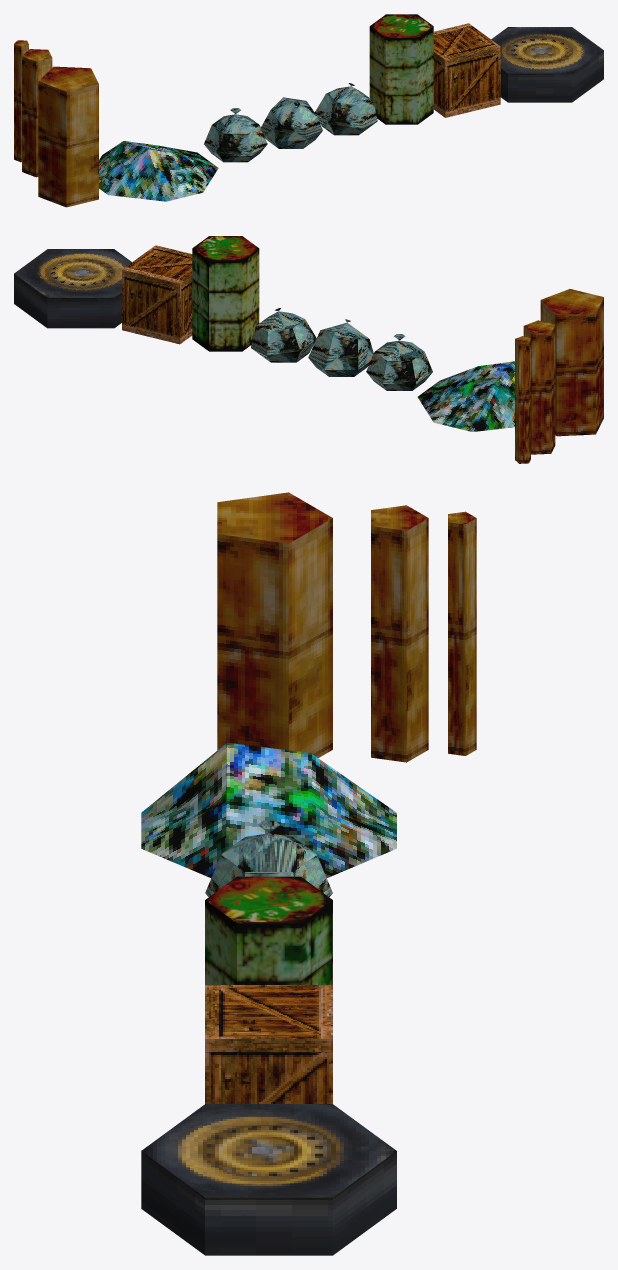
Rendered from gridmap_props.glb.
3 renders of one model, top to bottom at view 1: azimuth 30°, elevation 25°; view 2: azimuth 150°, elevation 25°; view 3: azimuth 270°, elevation 25°, orthographic. The views are drawn at different scales.
Parts seen in each view (by area): view 1: pipe_lg-col, wheel-col, barrel-col, trash-pile, crate-col, pipe_med-col, trash_bag_01, trash_bag_02, trash_bag_03, pipe_sm-col; view 2: wheel-col, barrel-col, pipe_lg-col, crate-col, trash-pile, pipe_med-col, trash_bag_02, trash_bag_01, trash_bag_03, pipe_sm-col; view 3: wheel-col, pipe_lg-col, trash-pile, crate-col, pipe_med-col, barrel-col, pipe_sm-col, trash_bag_01.
Boxes of the visible parts, <box> form: pipe_lg-col: <box>38,66,98,207</box>; wheel-col: <box>491,27,603,102</box>; barrel-col: <box>369,14,433,124</box>; trash-pile: <box>99,141,218,201</box>; crate-col: <box>433,23,500,117</box>; pipe_med-col: <box>22,49,52,177</box>; trash_bag_01: <box>204,108,267,162</box>; trash_bag_02: <box>261,97,322,148</box>; trash_bag_03: <box>315,83,377,135</box>; pipe_sm-col: <box>14,40,28,162</box>; wheel-col: <box>14,249,131,328</box>; barrel-col: <box>192,236,259,351</box>; pipe_lg-col: <box>540,289,603,436</box>; crate-col: <box>122,245,192,344</box>; trash-pile: <box>417,361,514,431</box>; pipe_med-col: <box>523,320,555,454</box>; trash_bag_02: <box>308,319,373,376</box>; trash_bag_01: <box>366,334,432,390</box>; trash_bag_03: <box>251,308,316,362</box>; pipe_sm-col: <box>515,336,530,463</box>; wheel-col: <box>141,1104,396,1255</box>; pipe_lg-col: <box>217,492,332,757</box>; trash-pile: <box>141,742,396,877</box>; crate-col: <box>205,985,332,1103</box>; pipe_med-col: <box>371,505,428,762</box>; barrel-col: <box>205,876,332,984</box>; pipe_sm-col: <box>448,511,476,755</box>; trash_bag_01: <box>205,820,332,897</box>.
Bounding box in the file's own units: 19.68 × 4 × 5.25.
6 materials, 6 textured.
